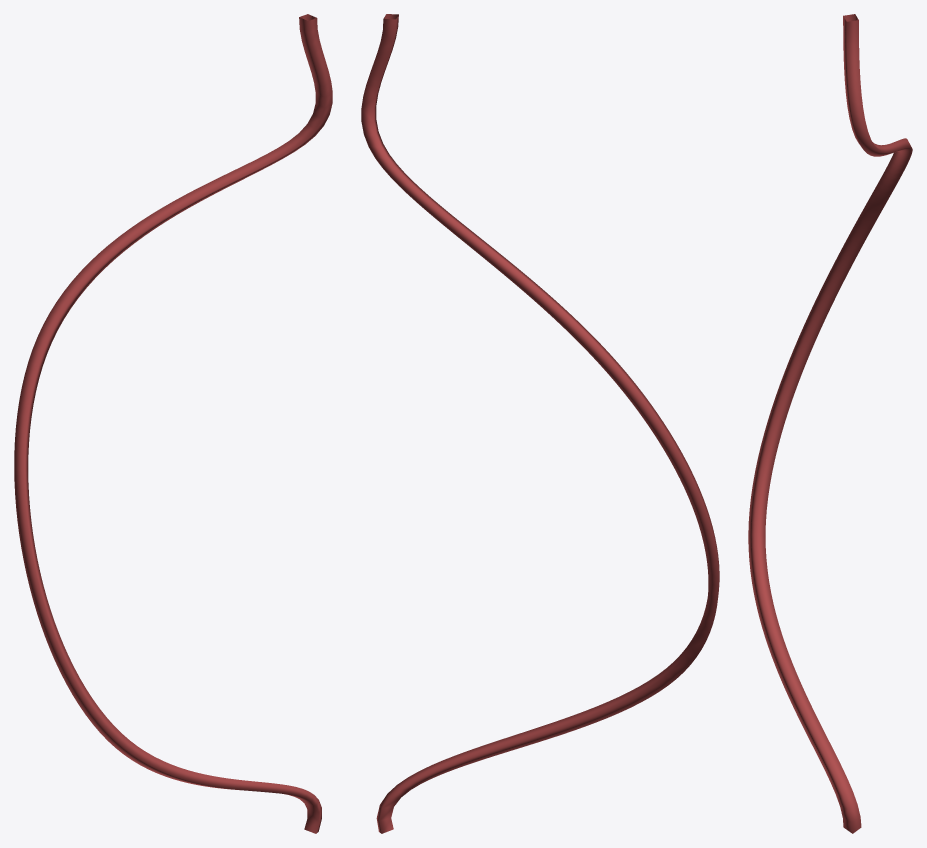
Rendered from wireOneStraightPrime.fbx.
3 views of the same model, side by side, from view 1: azimuth 30°, elevation 25°; view 2: azimuth 150°, elevation 25°; view 3: azimuth 270°, elevation 25° (orthographic).
Parts seen in each view (by area): view 1: extrudedSurface10; view 2: extrudedSurface10; view 3: extrudedSurface10.
Part boxes in pixels (x1,y1,x2,y2): extrudedSurface10: (14,14,332,833); extrudedSurface10: (361,14,719,833); extrudedSurface10: (748,14,912,833).
Bounding box in the file's own units: 24.78 × 59.04 × 10.84.
